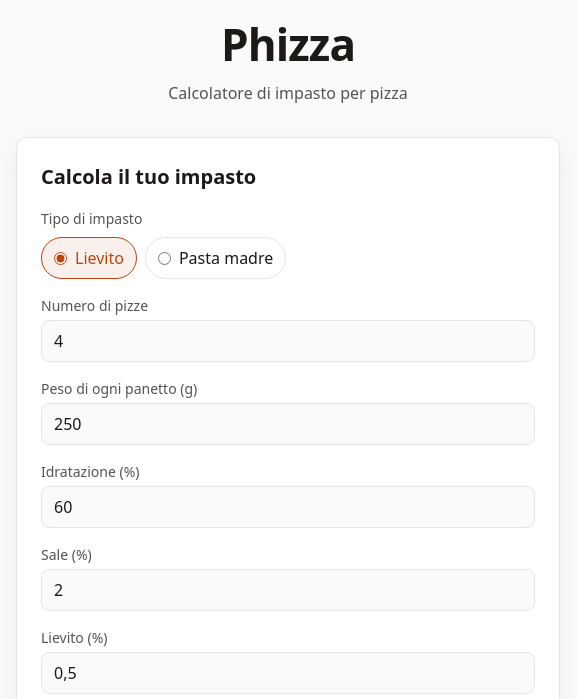
Scenario: App › shows a validation message when a required field is empty
Clear the field labelled "Numero di pizze" at (288, 341), box [41,320,535,362]
(page scrolled)
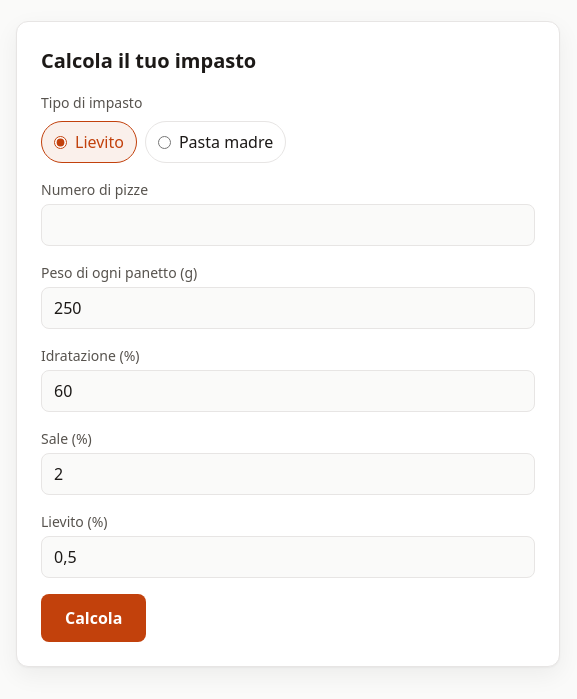
Click the button "Calcola" at (94, 618), box [41,594,146,642]
(page scrolled)
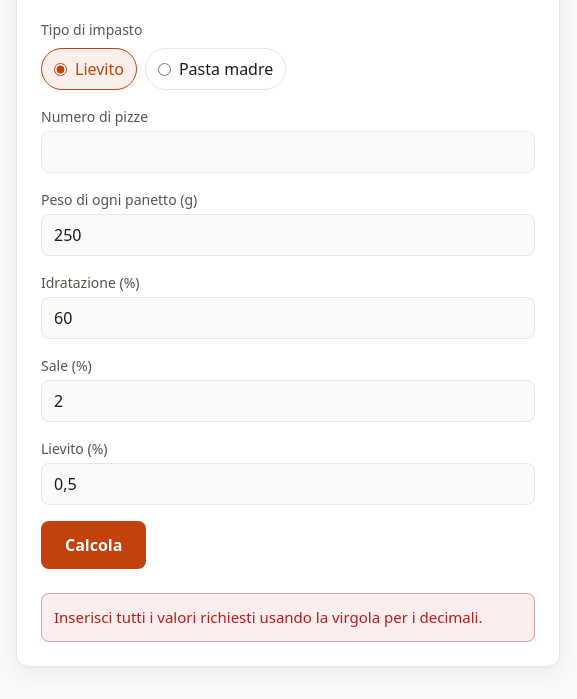
Now the message reads "Inserisci tutti i valori richiesti usando la virgola per i decimali.", box [54,607,482,627]
